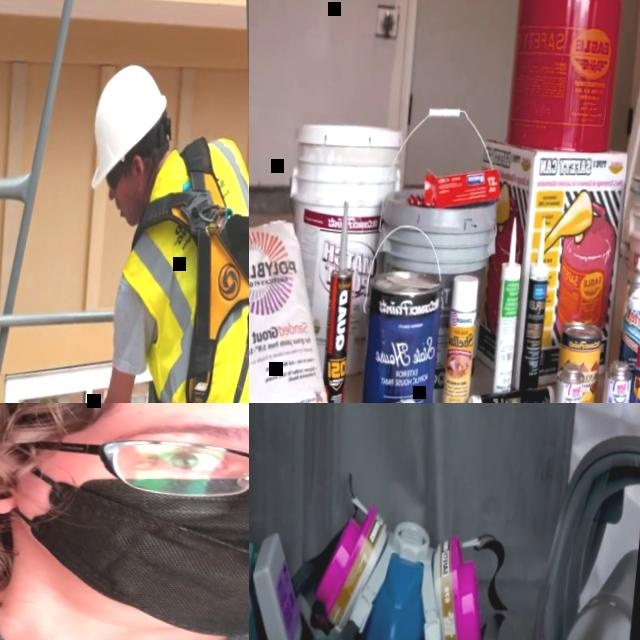Hardhat: (87, 61, 169, 192)
Mask: (0, 450, 249, 640), (302, 497, 497, 640), (515, 427, 640, 640), (249, 497, 317, 640)
NO-Mask: (115, 182, 140, 228)
NO-Safety Vest: (101, 124, 249, 403), (0, 552, 249, 640)
Person: (44, 55, 249, 403), (0, 403, 249, 640)
